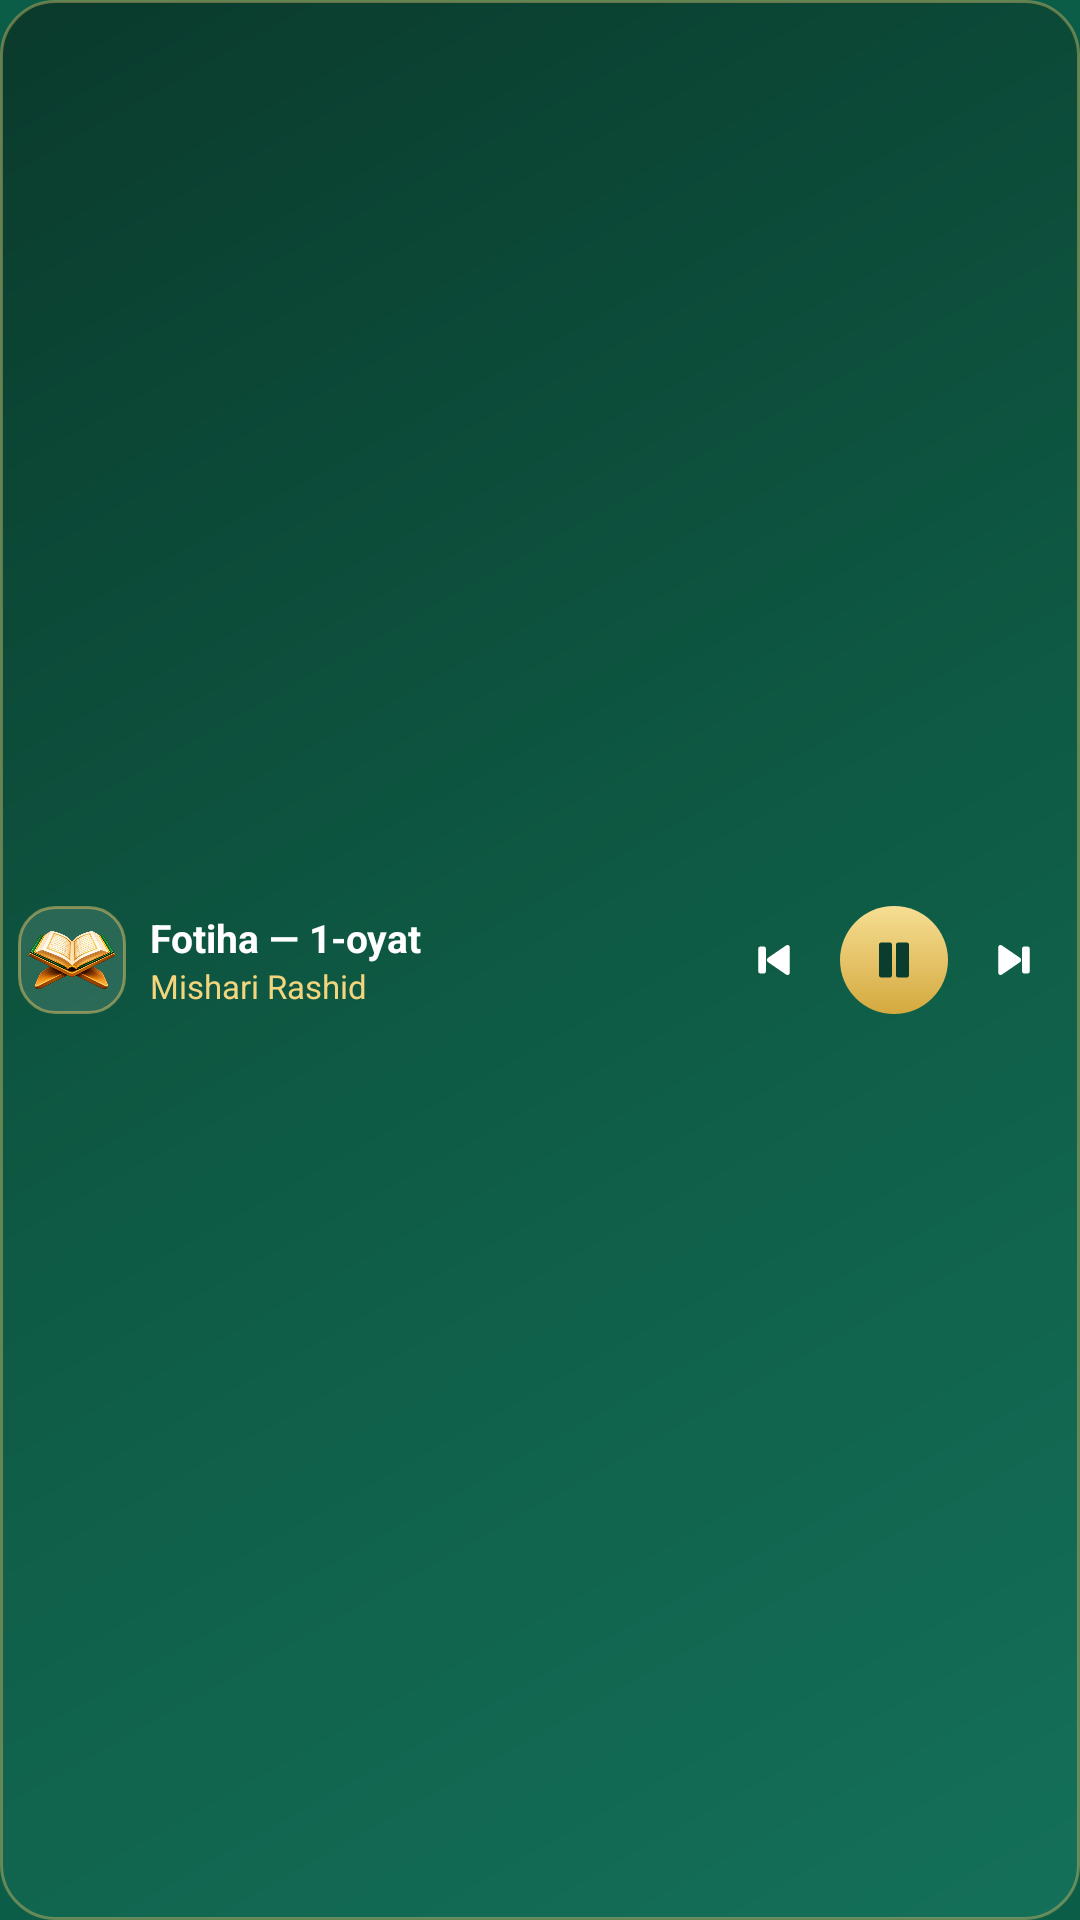

Named icons in this screenshot (1080*1920) and their centers, (x=x, y=y):
Keyingi: (x=1014, y=960)
Oldingi: (x=774, y=960)
quran: (x=72, y=960)
